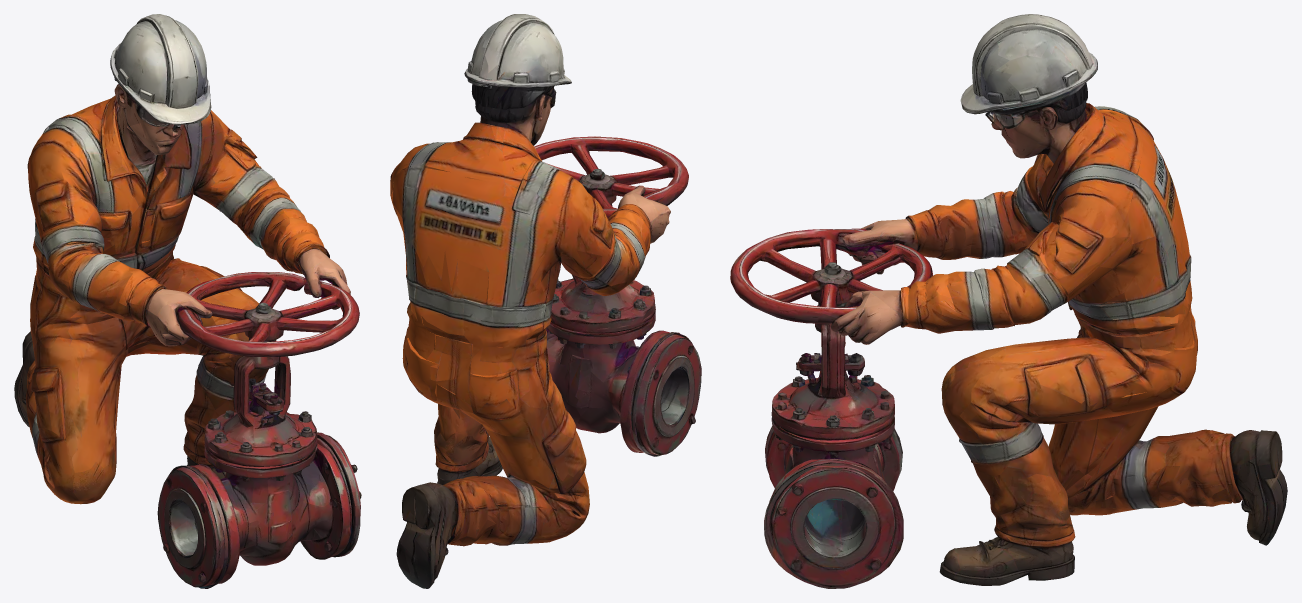
The model's file is worker_1.glb.
3 renders of one model, left to right at view 1: azimuth 30°, elevation 25°; view 2: azimuth 150°, elevation 25°; view 3: azimuth 270°, elevation 25°, orthographic. The views are drawn at different scales.
Size of the model in its own units: 0.954 by 1.9 by 1.8.
1 material, 1 textured.
